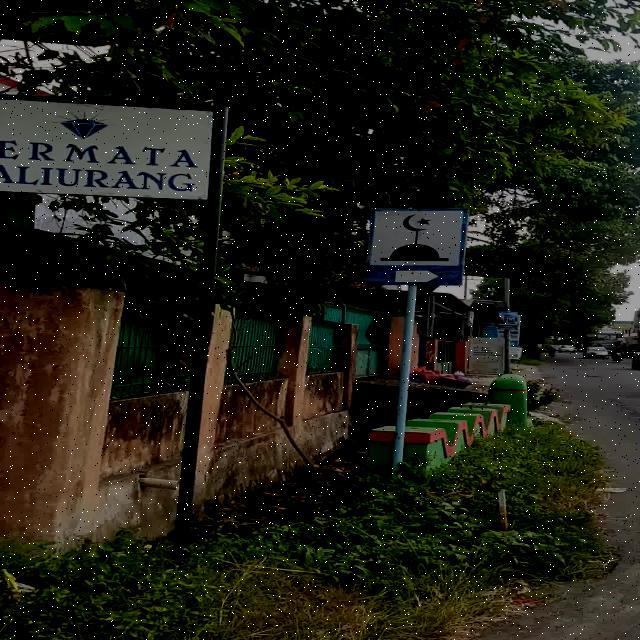Masjid: (364, 208, 470, 286)
